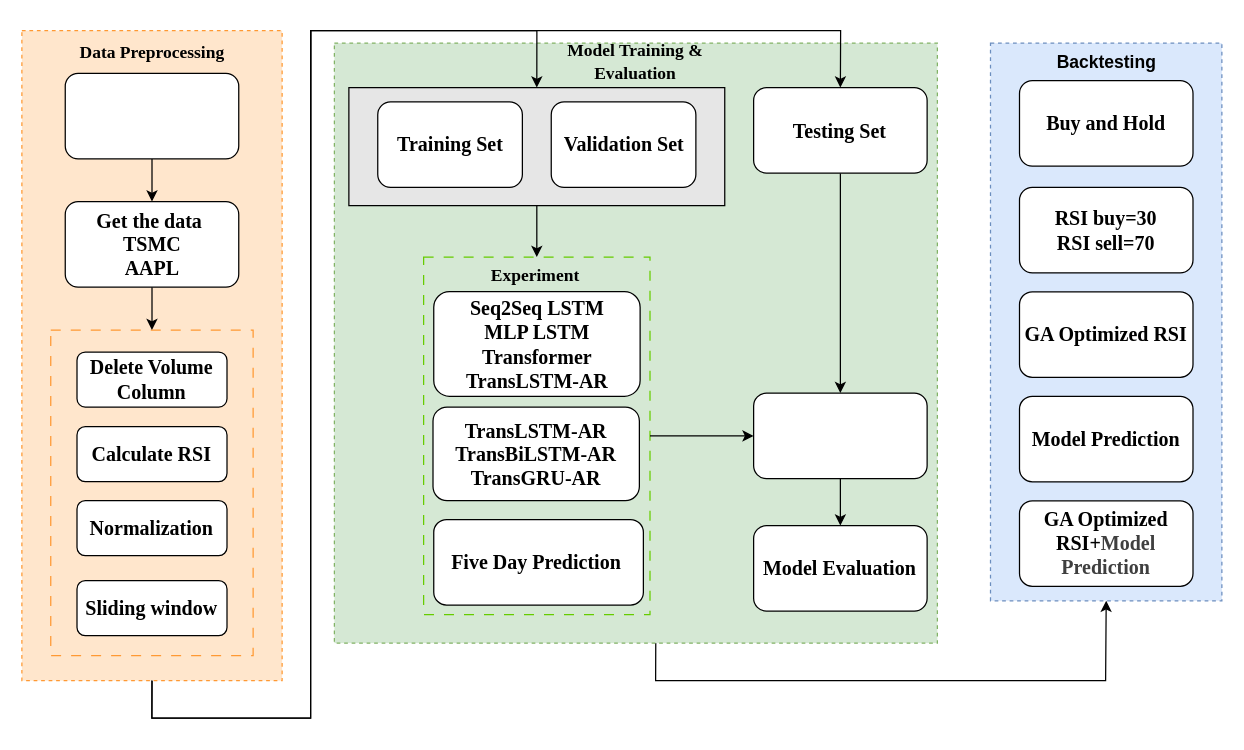
This 1244x750 diagram has some shape labels left out. The shapes that lost their labels are listed below. From the top down, each one's centre as x and y in pixels, then its label:
(151,115): Yahoo Finance API
(839,435): Model Testing
